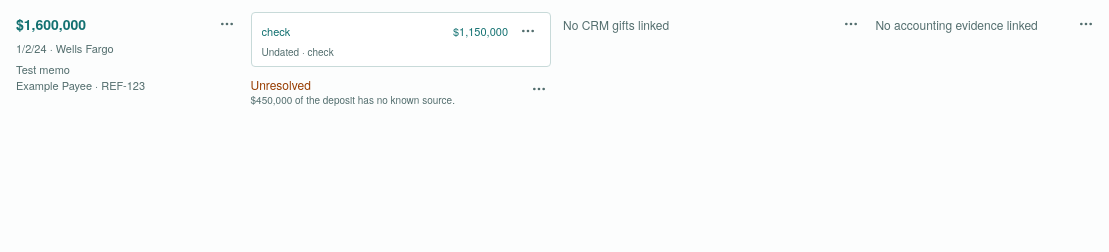
Scenario: deposit workbench rows › offers to make the sole known payment absorb an unresolved remainder
The image size is (1109, 252).
Press the mouse on the button named "Card actions" next to "$1,600,000" at (226, 24), box [214, 12, 238, 36]
Press the mouse on the button named "Card actions" next to "$1,150,000" at (528, 31), box [516, 19, 540, 43]
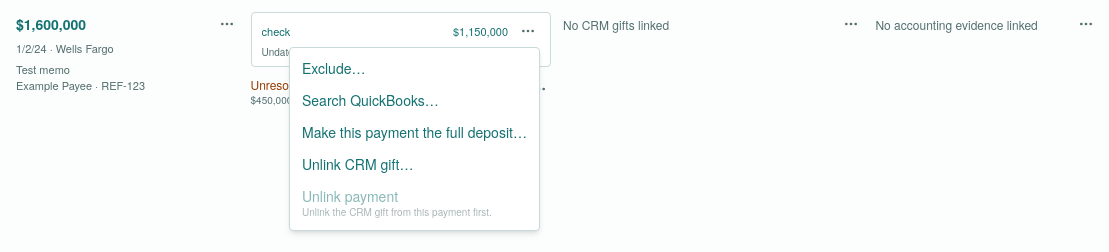
Result: the menu is shown at [289, 47, 540, 231]
